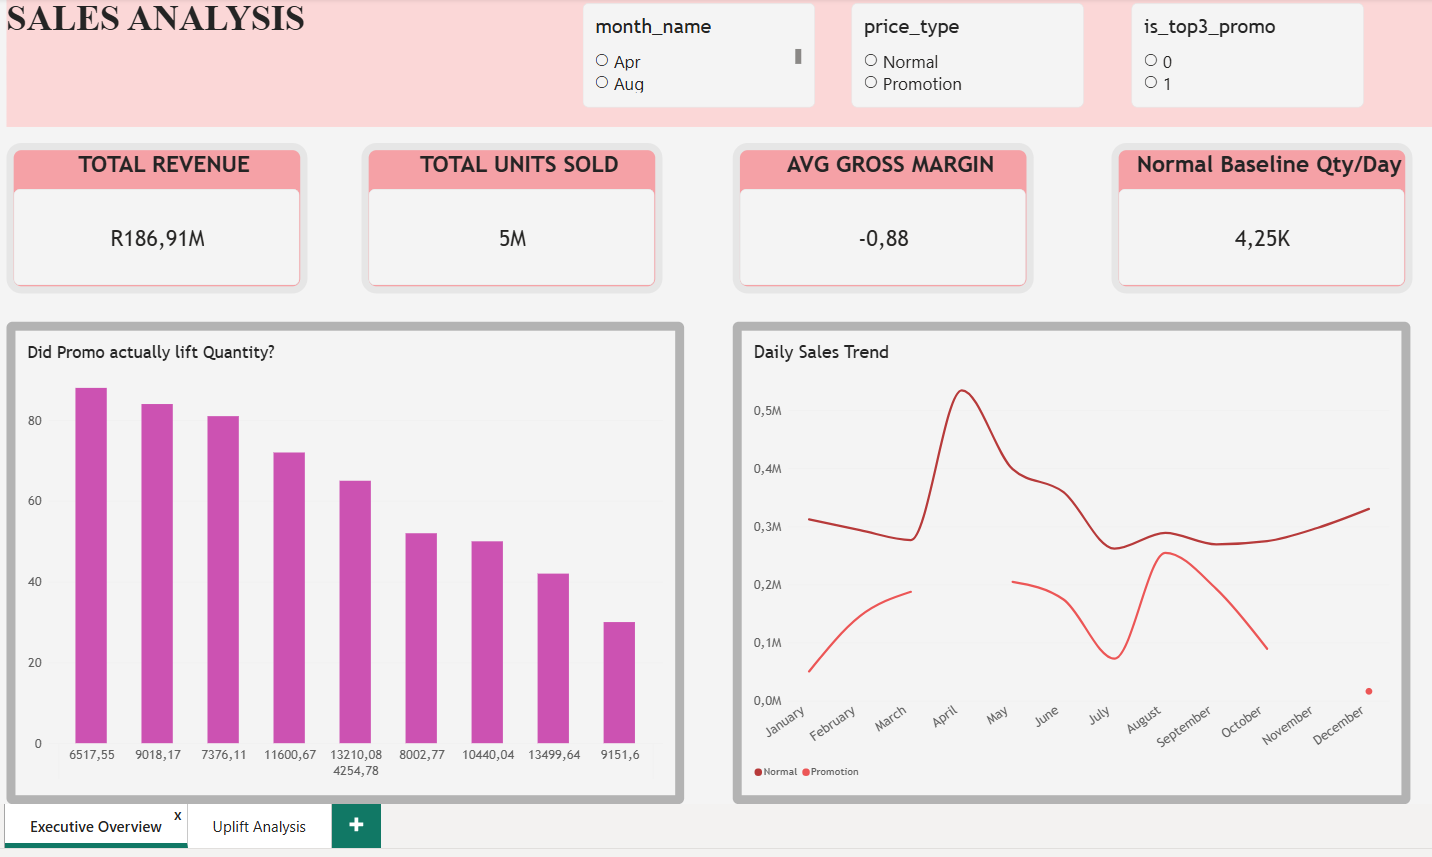

The page's visual inventory and layout, read from the dashboard file:
{"tool":"powerbi","page":{"name":"Executive Overview","canvas":[1920,1080],"ordinal":0},"visuals":[{"type":"textbox","box":[10.3,0,1910.1,172.9],"z":0},{"type":"cardVisual","title":"TOTAL REVENUE","fields":{"Data":["Sum(Table1 (2).sales)"]},"box":[10.3,193.5,403.4,201.7],"z":1000},{"type":"cardVisual","title":"TOTAL UNITS SOLD","fields":{"Data":["Sum(Table1 (2).quantity_sold)"]},"box":[485.8,193.5,403.4,201.7],"z":2000},{"type":"cardVisual","title":"AVG GROSS MARGIN","fields":{"Data":["Avg(Table1 (2).gross_profit_pct)"]},"box":[983.9,193.5,403.4,201.7],"z":3000},{"type":"cardVisual","title":"Normal Baseline Qty/Day","fields":{"Data":["Avg(Table1 (2).period_avg_normal_daily_qty)"]},"box":[1490.2,193.5,403.4,201.7],"z":4000},{"type":"listSlicer","fields":{"Values":["Table1 (2).month_name"]},"box":[782.2,6.2,310.8,140],"z":5000},{"type":"listSlicer","fields":{"Values":["Table1 (2).price_type"]},"box":[1142.4,6.2,310.8,140],"z":6000},{"type":"listSlicer","fields":{"Values":["Table1 (2).is_top3_promo"]},"box":[1517,6.2,310.8,140],"z":7000},{"type":"lineChart","title":"Daily Sales Trend","fields":{"Category":["Table1 (2).sale_date.Variation.Date Hierarchy.Month"],"Y":["Sum(Table1 (2).quantity_sold)"],"Series":["Table1 (2).price_type"]},"box":[983.9,434.3,907.7,646.3],"z":8000},{"type":"clusteredColumnChart","title":"Did Promo actually lift Quantity?","fields":{"Y":["Sum(Table1 (2).promotion_number)"],"Category":["Table1 (2).period_avg_normal_daily_qty","Table1 (2).period_avg_promo_daily_qty"]},"box":[10.3,433.7,907.7,646.3],"z":9000}]}

Visuals, with their boxes on the page's 1920x1080 design canvas (x1, y1, x2, y2). These are canvas units, not pixel positions in the 1432x857 screenshot, which may show the page scaled, cropped or inside an application window:
textbox: <bbox>10, 0, 1920, 173</bbox>
"TOTAL REVENUE" cardVisual: <bbox>10, 194, 414, 395</bbox>
"TOTAL UNITS SOLD" cardVisual: <bbox>486, 194, 889, 395</bbox>
"AVG GROSS MARGIN" cardVisual: <bbox>984, 194, 1387, 395</bbox>
"Normal Baseline Qty/Day" cardVisual: <bbox>1490, 194, 1894, 395</bbox>
listSlicer - Table1 (2).month_name: <bbox>782, 6, 1093, 146</bbox>
listSlicer - Table1 (2).price_type: <bbox>1142, 6, 1453, 146</bbox>
listSlicer - Table1 (2).is_top3_promo: <bbox>1517, 6, 1828, 146</bbox>
"Daily Sales Trend" lineChart: <bbox>984, 434, 1892, 1081</bbox>
"Did Promo actually lift Quantity?" clusteredColumnChart: <bbox>10, 434, 918, 1080</bbox>
